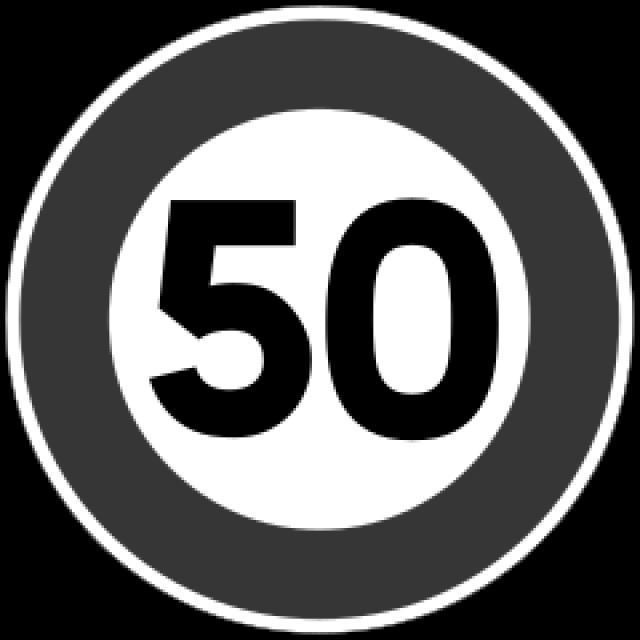speed limit 50: (27, 27, 613, 605)
